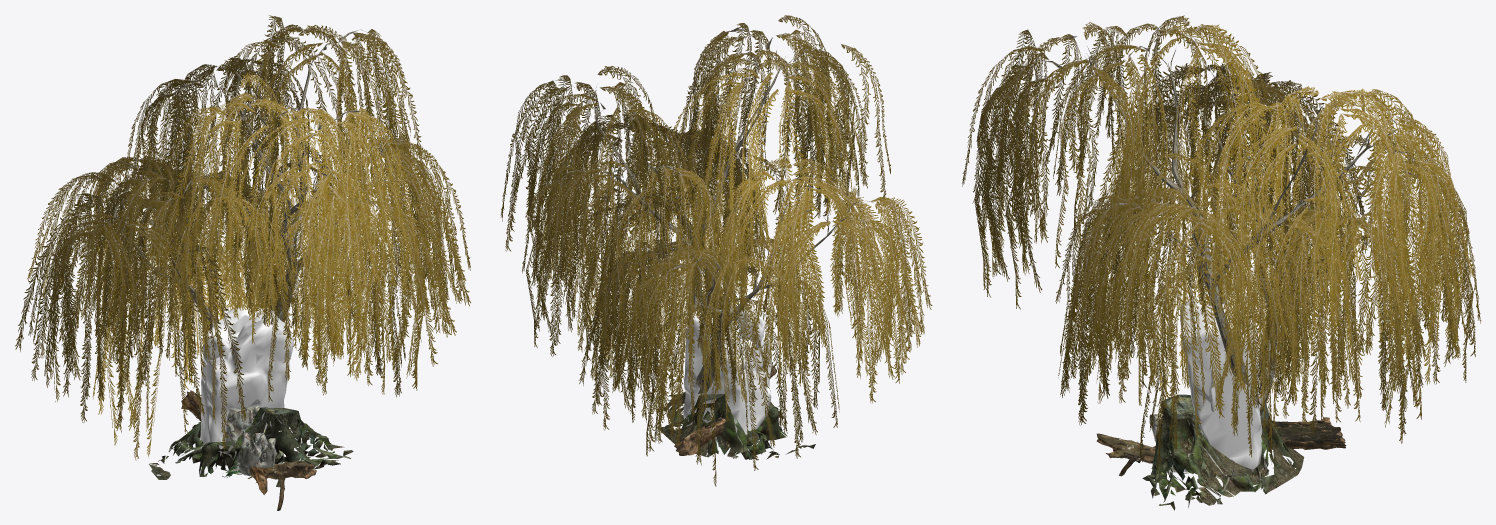
The model's file is wood.glb.
3 views of the same model, side by side, from view 1: azimuth 30°, elevation 25°; view 2: azimuth 150°, elevation 25°; view 3: azimuth 270°, elevation 25° (orthographic). The views are drawn at different scales.
Visible parts, largest first — view 1: willow branch_1_willow branch_1Mat_0, rock_07, flat, bark10_0_bark10_0Mat_0, parez_obora_parez_obora_0, dead_tree_trunk_02, rock_09_LOD0; view 2: willow branch_1_willow branch_1Mat_0, rock_07, flat, bark10_0_bark10_0Mat_0, dead_tree_trunk_02, rock_09_LOD0; view 3: willow branch_1_willow branch_1Mat_0, flat, rock_07, bark10_0_bark10_0Mat_0, dead_tree_trunk_02.
Boxes of the visible parts, <box> form: willow branch_1_willow branch_1Mat_0: <box>15,15,470,460</box>; rock_07: <box>200,308,293,452</box>; flat: <box>149,407,353,487</box>; bark10_0_bark10_0Mat_0: <box>94,28,403,329</box>; parez_obora_parez_obora_0: <box>177,406,283,477</box>; dead_tree_trunk_02: <box>181,390,316,510</box>; rock_09_LOD0: <box>202,306,261,432</box>; willow branch_1_willow branch_1Mat_0: <box>500,15,932,486</box>; rock_07: <box>683,283,772,442</box>; flat: <box>661,391,815,459</box>; bark10_0_bark10_0Mat_0: <box>555,28,873,433</box>; dead_tree_trunk_02: <box>674,362,784,455</box>; rock_09_LOD0: <box>712,295,765,416</box>; willow branch_1_willow branch_1Mat_0: <box>962,15,1481,473</box>; flat: <box>1134,394,1304,510</box>; rock_07: <box>1180,301,1262,470</box>; bark10_0_bark10_0Mat_0: <box>1029,28,1417,478</box>; dead_tree_trunk_02: <box>1096,417,1346,476</box>.
Size of the model in its own units: 8.59 by 8.12 by 8.39.
Materials: 7 (6 with a texture image).
